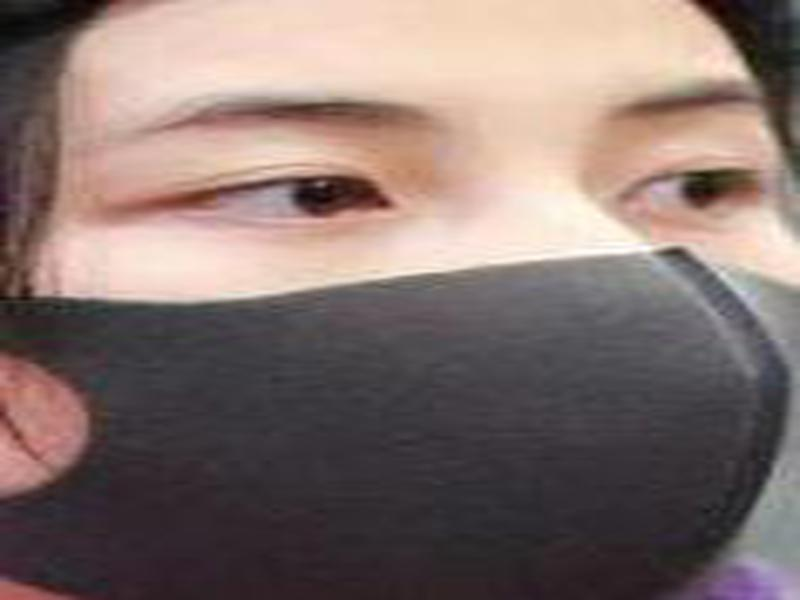with_mask: (3, 1, 797, 596)
